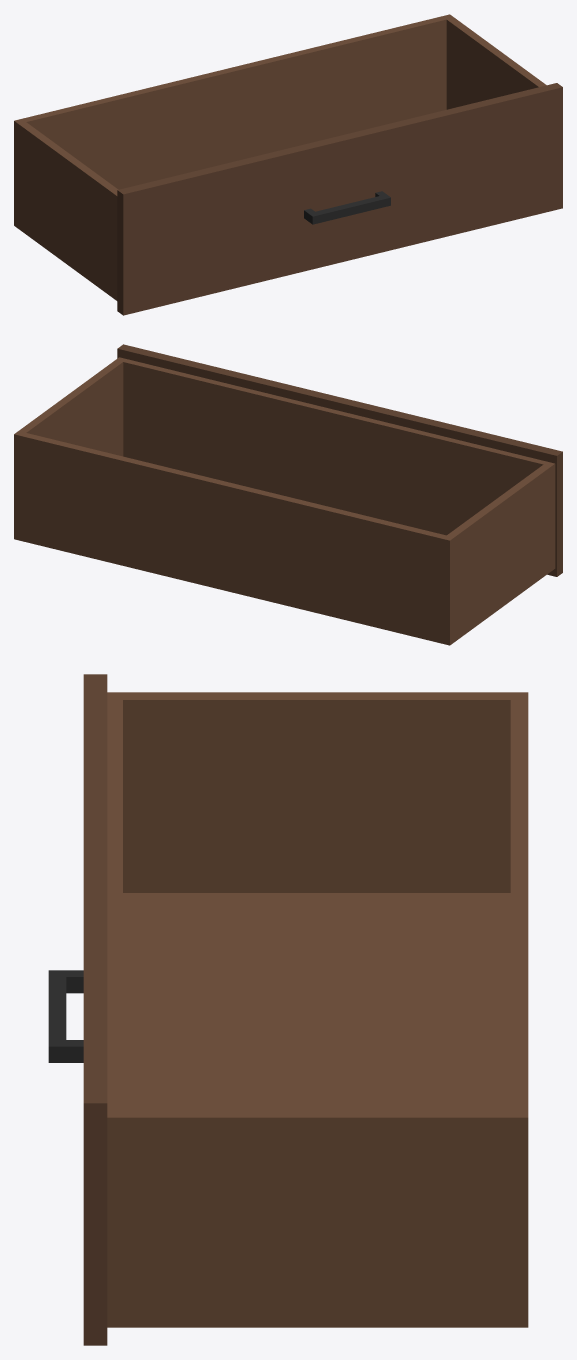
The model's file is Dresser2_C1_02.fbx.
3 views of the same model, one above another, from view 1: azimuth 30°, elevation 25°; view 2: azimuth 150°, elevation 25°; view 3: azimuth 270°, elevation 25° (orthographic). The views are drawn at different scales.
Parts seen in each view (by area): view 1: Dresser2_C1_02; view 2: Dresser2_C1_02; view 3: Dresser2_C1_02.
Boxes of the visible parts, <box> form: Dresser2_C1_02: <box>14,14,562,315</box>; Dresser2_C1_02: <box>14,344,562,645</box>; Dresser2_C1_02: <box>48,674,528,1345</box>.
Bounding box in the file's own units: 85.7 × 22.57 × 40.51.
